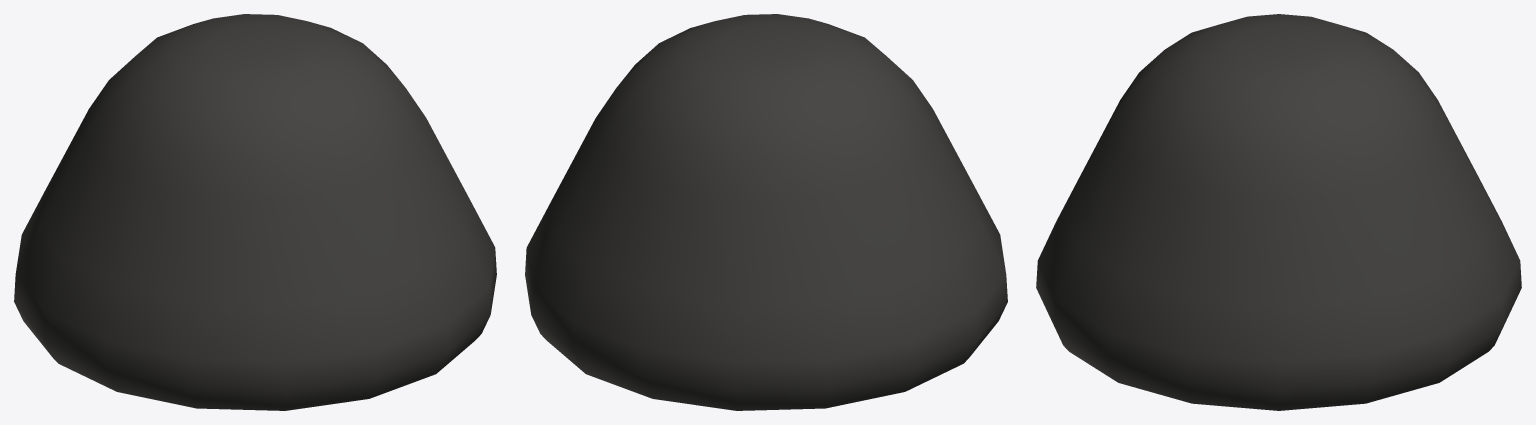
The model's file is Stone01.fbx.
The picture shows the model from 3 angles, left to right: view 1: azimuth 30°, elevation 25°; view 2: azimuth 150°, elevation 25°; view 3: azimuth 270°, elevation 25°; orthographic projection.
Visible parts, largest first — view 1: Stone01; view 2: Stone01; view 3: Stone01.
Boxes of the visible parts, box(x1,y1,x2,y2) form: Stone01: box(14, 14, 496, 410); Stone01: box(525, 14, 1007, 410); Stone01: box(1036, 14, 1521, 410).
Size of the model in its own units: 39.56 by 24.49 by 39.55.
